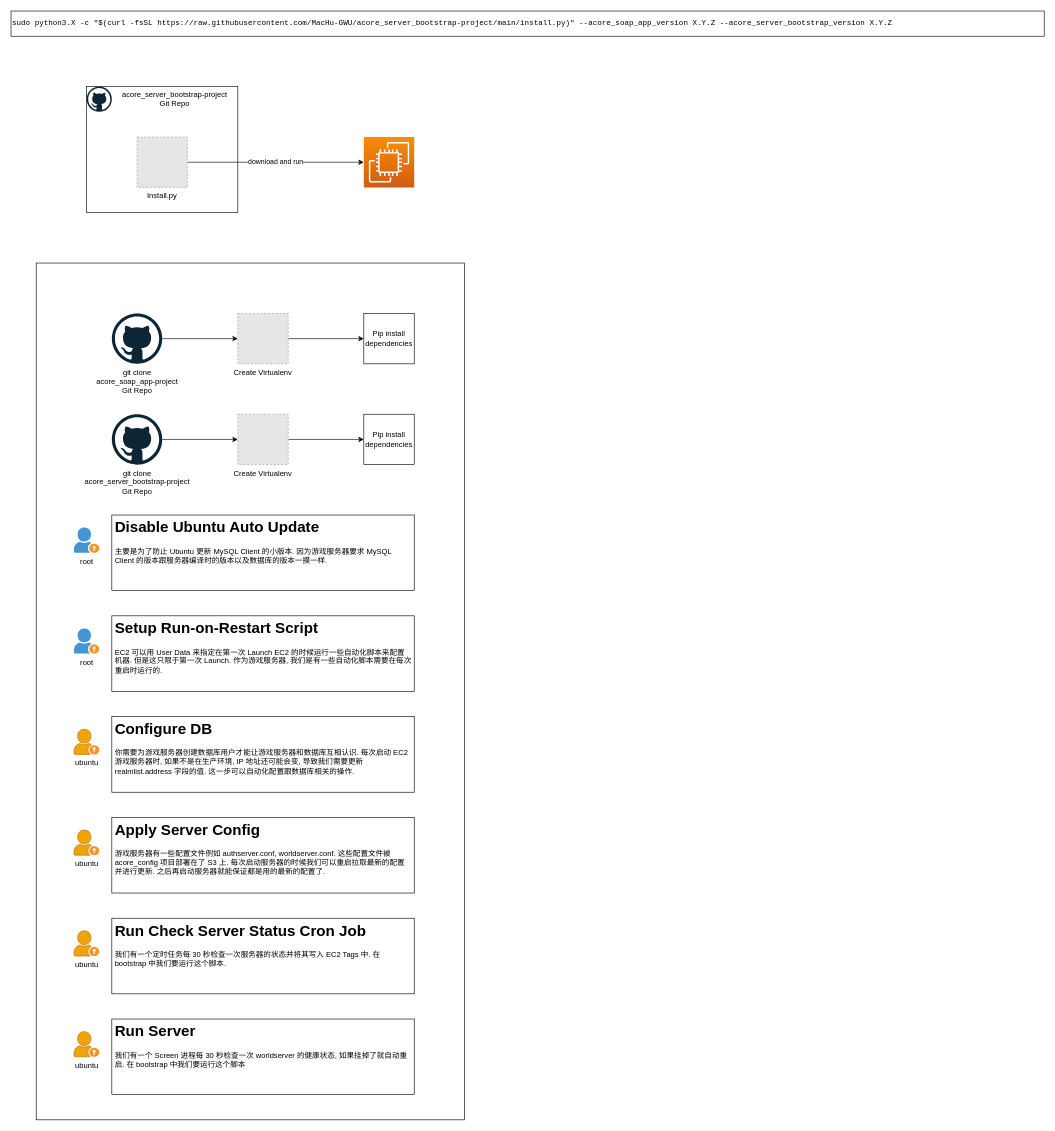
This 1055x1131 diagram has some shape labels left out. Grey dashed boxes stand in for pictures. Here are the shapes that lost their labels. From the top down, the box of each, then its label:
(363, 136, 414, 187): EC2
(36, 262, 465, 1120): Bootstrap Logics
